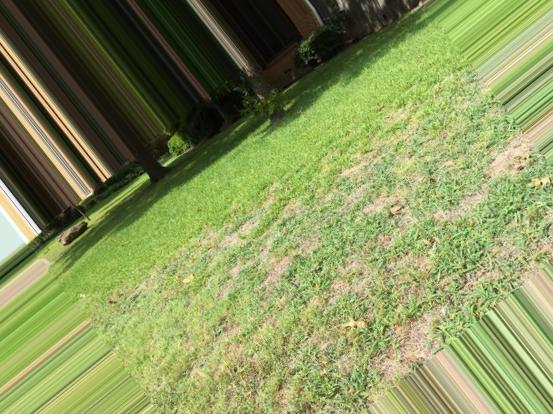patch: (358, 132, 497, 242), (142, 276, 325, 359), (335, 253, 459, 370), (230, 221, 358, 296)
